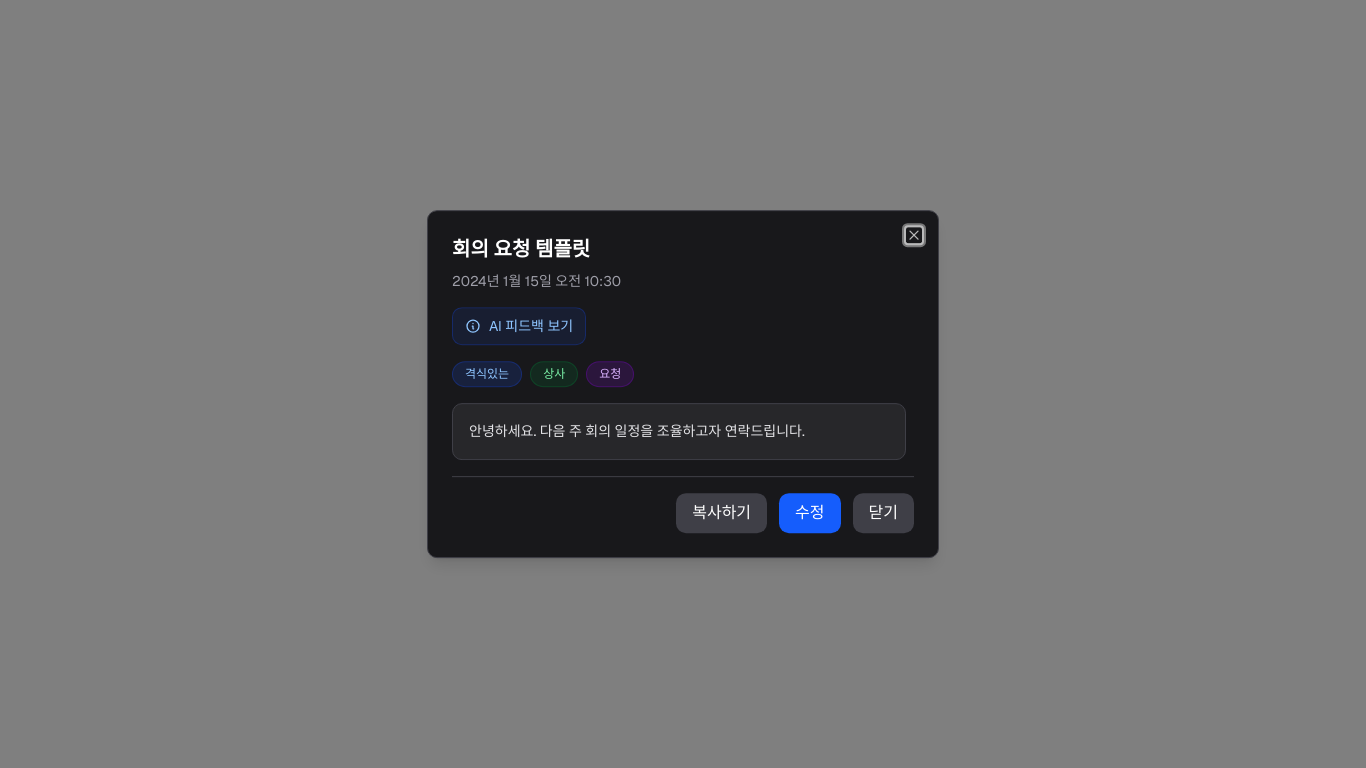
Test: TemplateDetailModal › 수정 모드 › "수정" 버튼 클릭 시 편집 폼이 표시된다
Click the button "수정": (810, 513) [779,493,841,533]
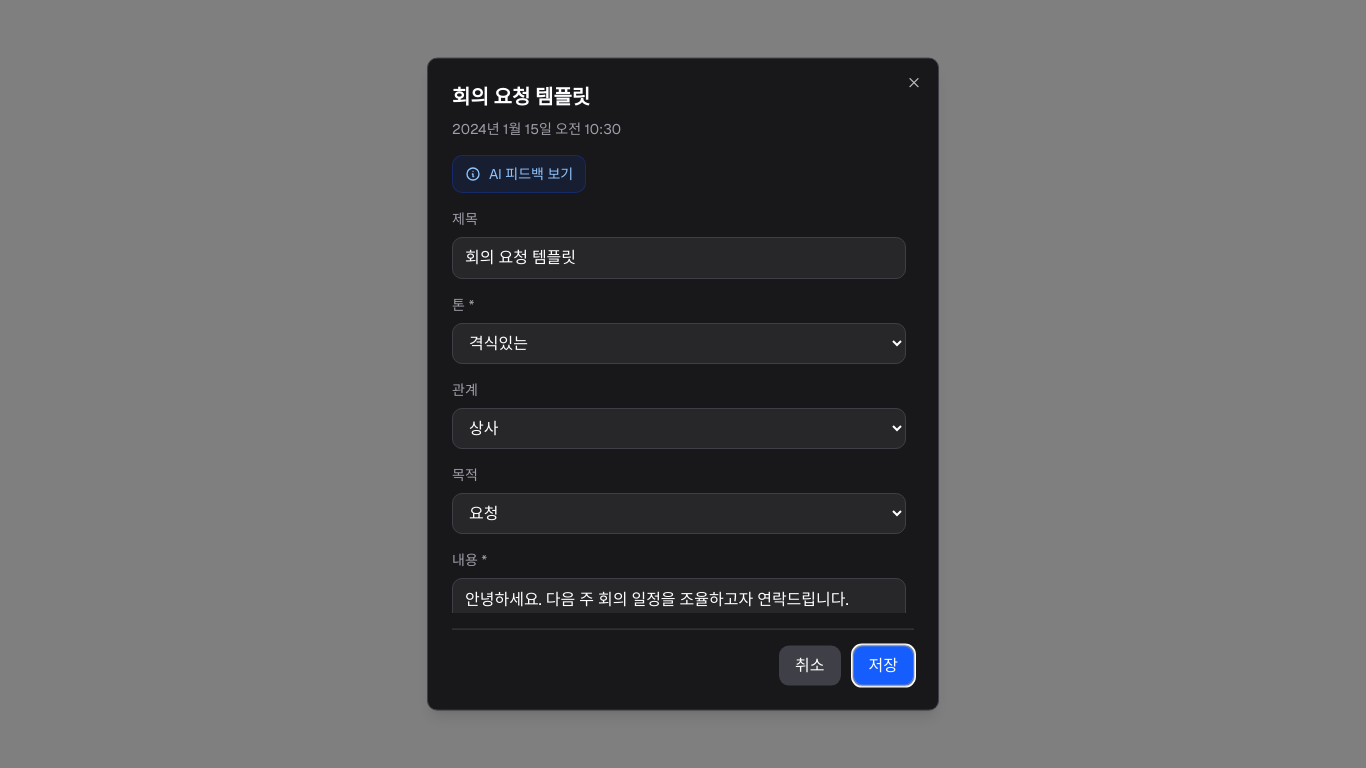
Expected: the field with placeholder "제목 (선택사항)" is shown, [452,237,906,279]
Expected: the button "저장" is shown, [852,645,914,685]
Expected: the button "취소" is shown, [779,645,841,685]
